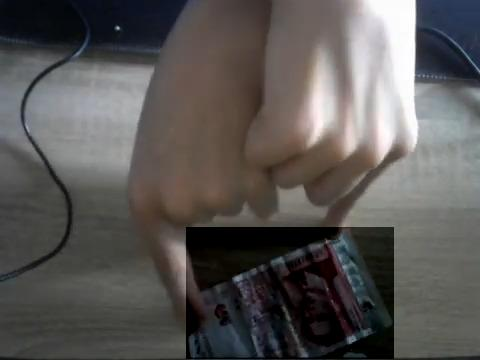5leva: (186, 227, 394, 359)
